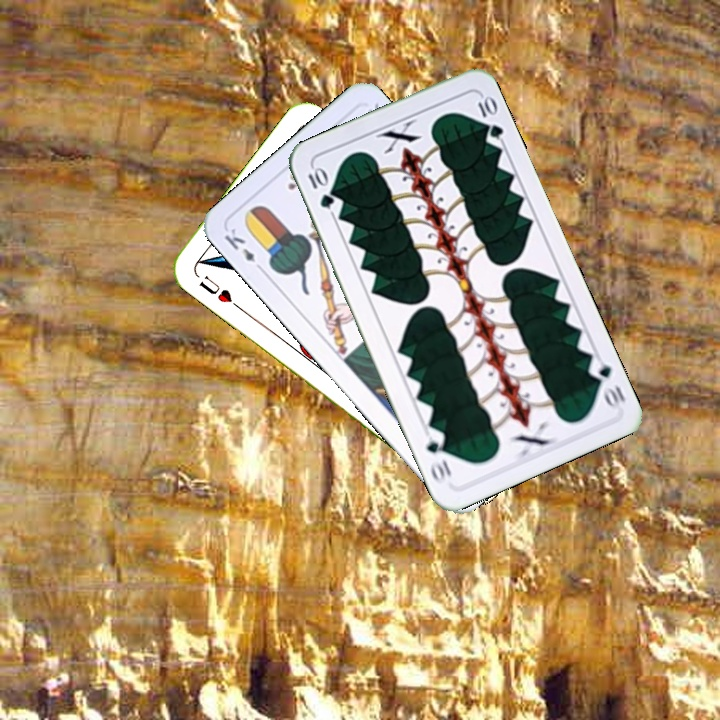EK: (220, 224, 267, 275)
G10: (584, 353, 629, 412), (303, 163, 337, 211)
HU: (195, 271, 235, 306)
